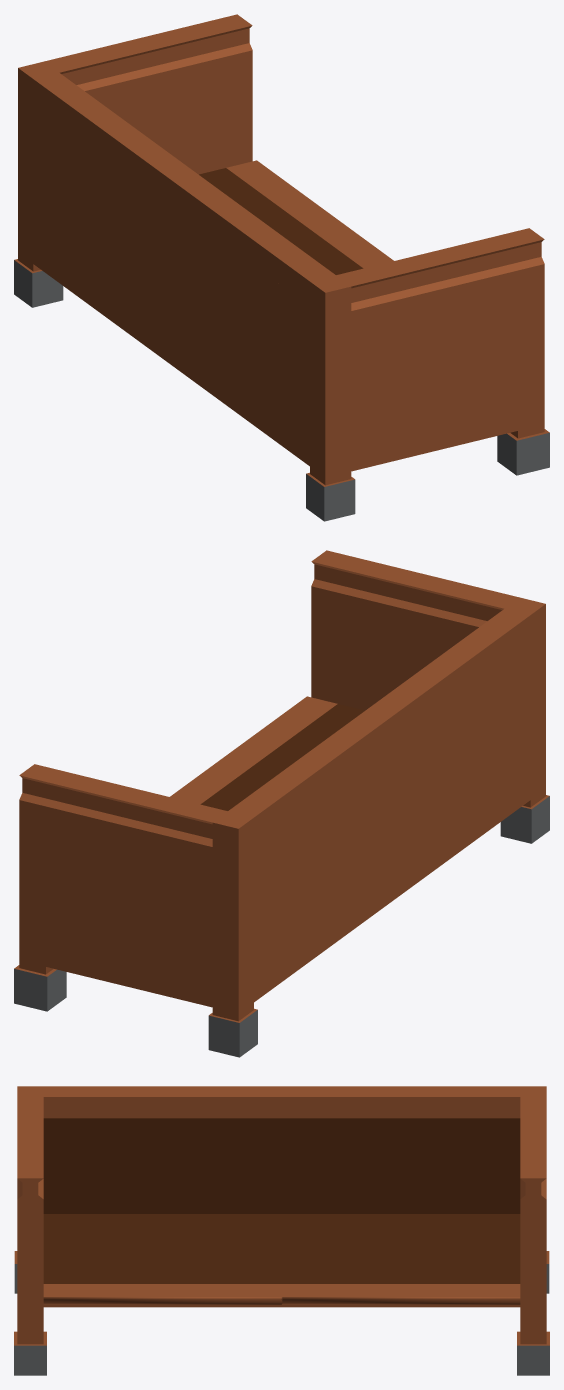
The model's file is WoodenBench.fbx.
3 views of the same model, one above another, from view 1: azimuth 30°, elevation 25°; view 2: azimuth 150°, elevation 25°; view 3: azimuth 270°, elevation 25° (orthographic). The views are drawn at different scales.
Parts seen in each view (by area): view 1: Cube; view 2: Cube; view 3: Cube.
Part boxes in pixels (x1=…): Cube: x1=14, y1=14, x2=549, y2=521; Cube: x1=14, y1=550, x2=549, y2=1057; Cube: x1=14, y1=1086, x2=549, y2=1375.
Size of the model in its own units: 1357 by 1305 by 3236.
